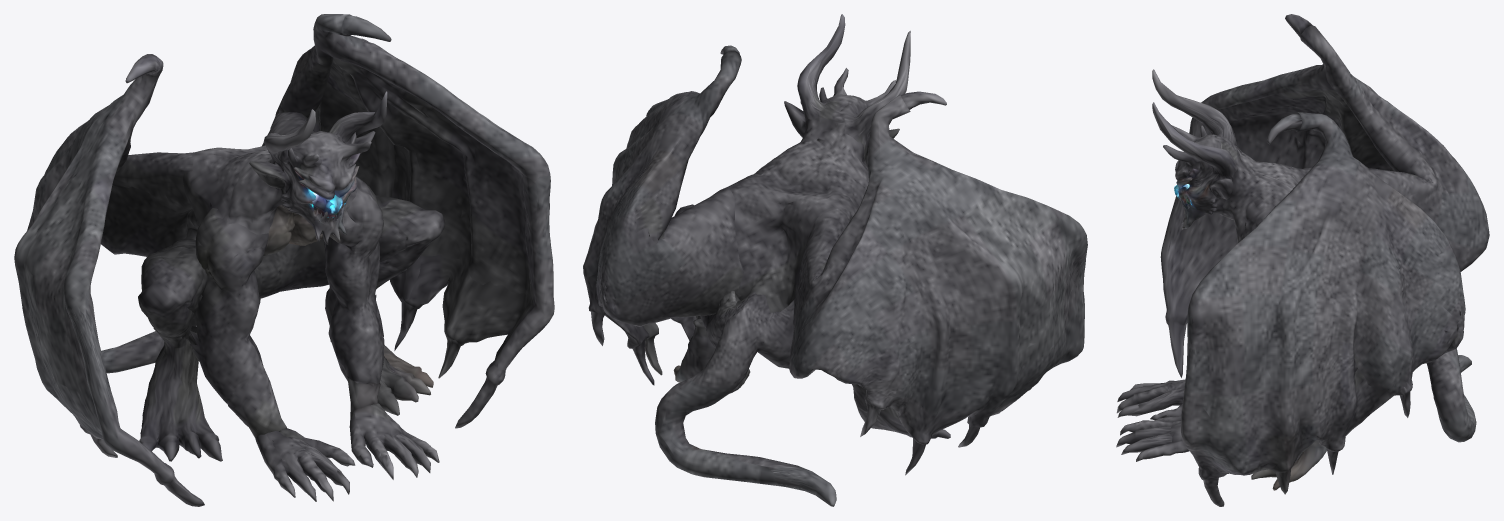
The model's file is MZ4250 - Gargoyle_Perched_2025.glb.
3 renders of one model, left to right at view 1: azimuth 30°, elevation 25°; view 2: azimuth 150°, elevation 25°; view 3: azimuth 270°, elevation 25°, orthographic. The views are drawn at different scales.
Visible parts, largest first — view 1: Gargoyle.002; view 2: Gargoyle.002; view 3: Gargoyle.002.
Part boxes in pixels (<box>): Gargoyle.002: <box>14,14,554,506</box>; Gargoyle.002: <box>583,14,1087,506</box>; Gargoyle.002: <box>1116,14,1489,506</box>.
Bounding box in the file's own units: 90.26 × 71.68 × 65.72.
Materials: 1 (1 with a texture image).
